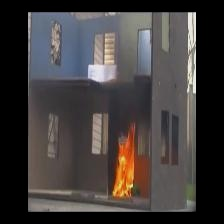fire: (109, 131, 147, 197)
